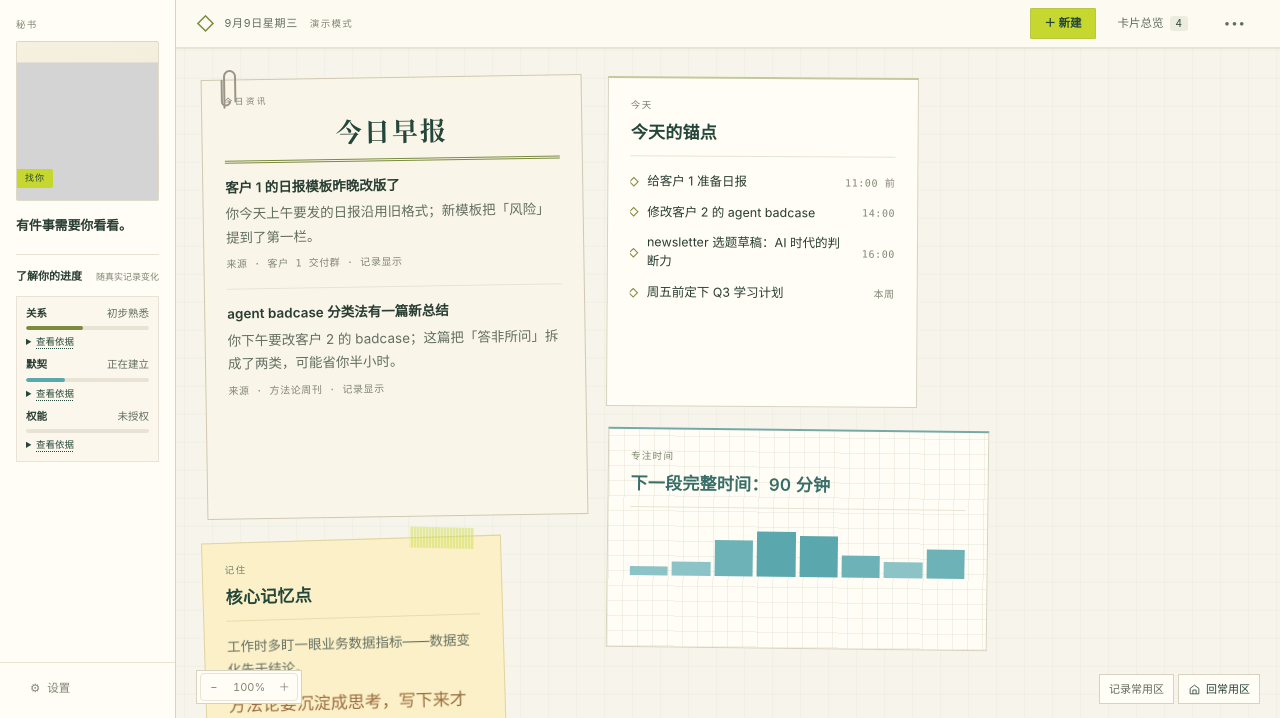
Test: DimensionApp seed runtime › 所有未接线动作都给出演示模式提示
Right-click the element named "卡片：今日早报" at (395, 297), box [204,77,585,517]
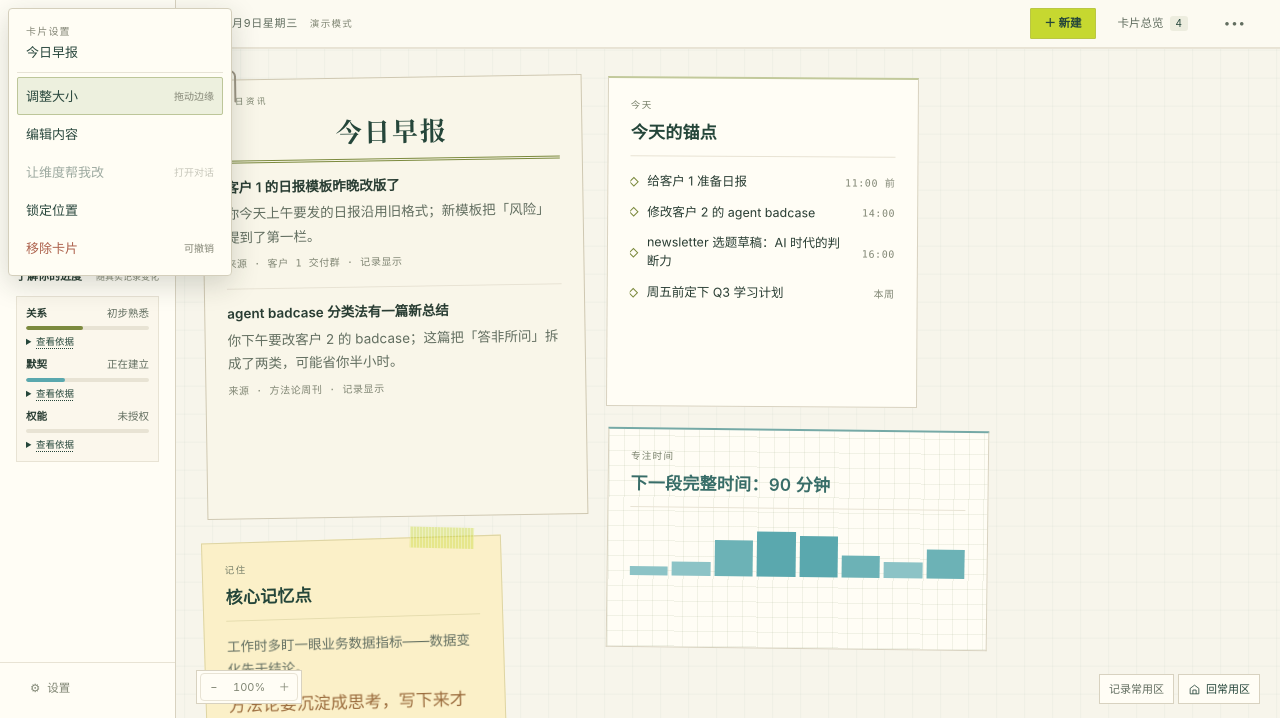
Click the menu item "编辑内容" at (120, 134), box [17,115,223,153]
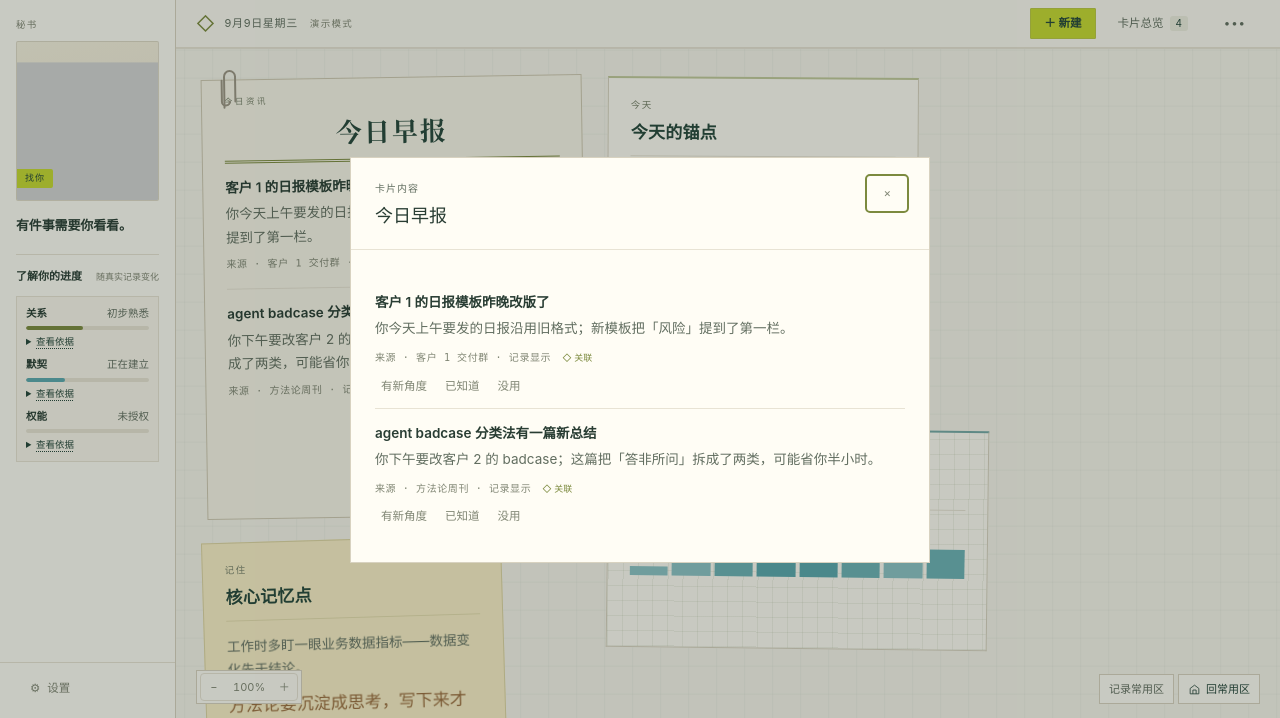
Click the 1st button "有新角度" at (404, 386), box [375,374,433,398]
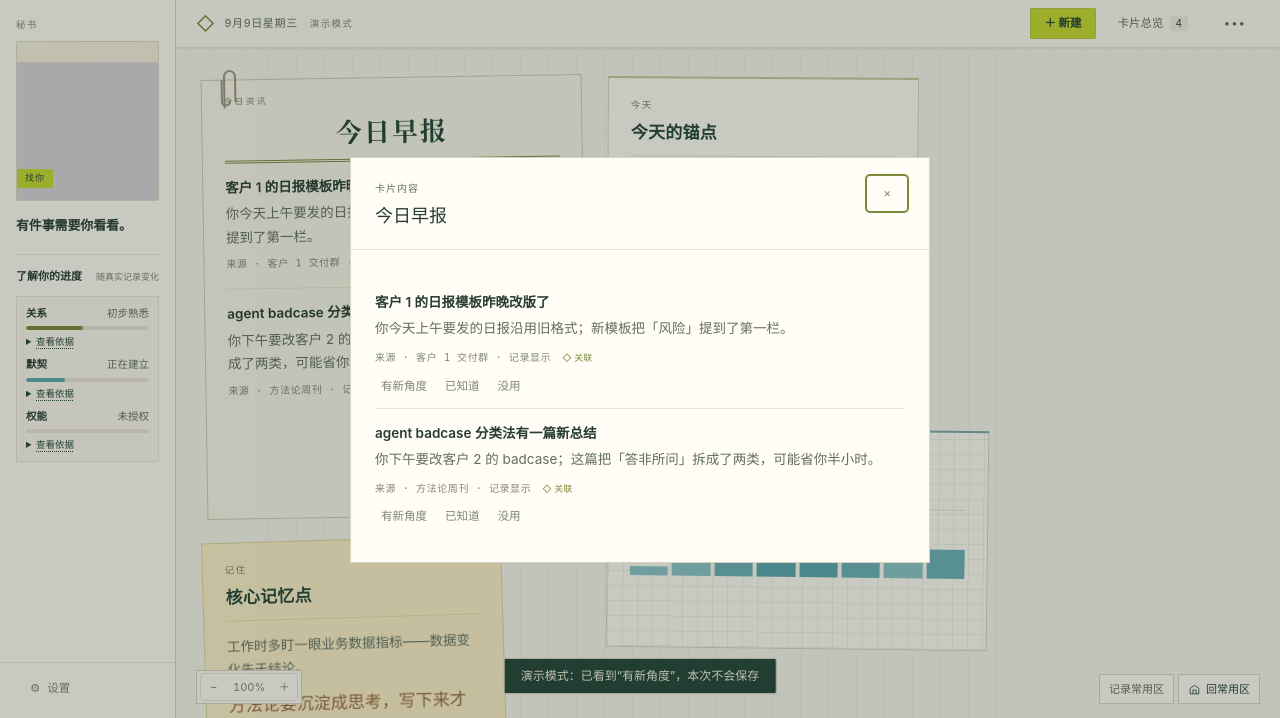
Now the message shows "演示模式", box [521,668,759,683]
Now the message shows "本次不会保存", box [521,668,759,683]
